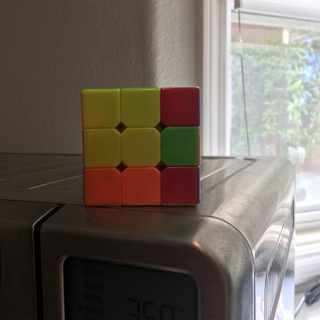face: (81, 86, 200, 207)
